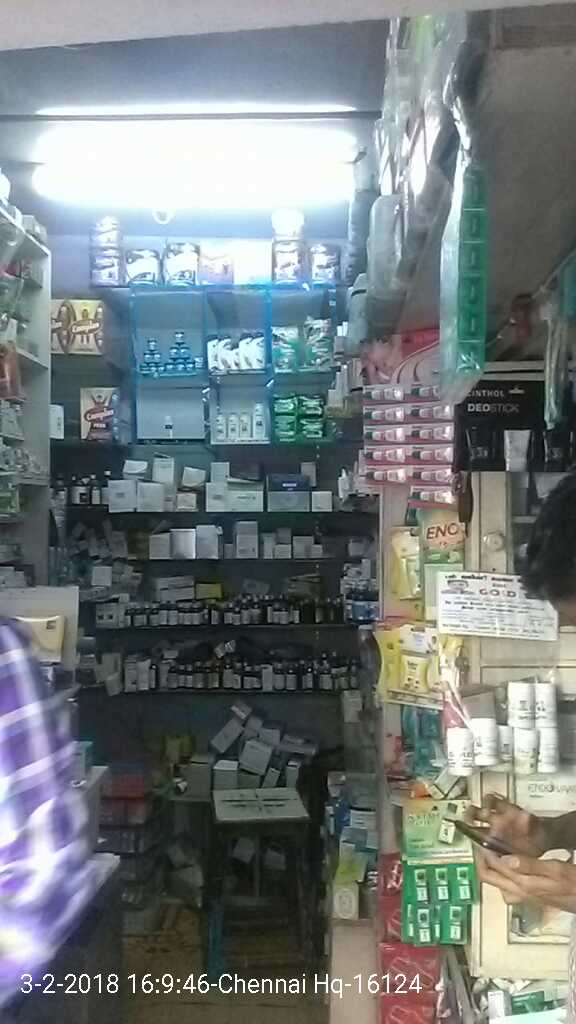vicks: (137, 323, 210, 376)
